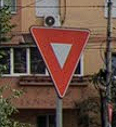cedeaza: (27, 21, 93, 99)
